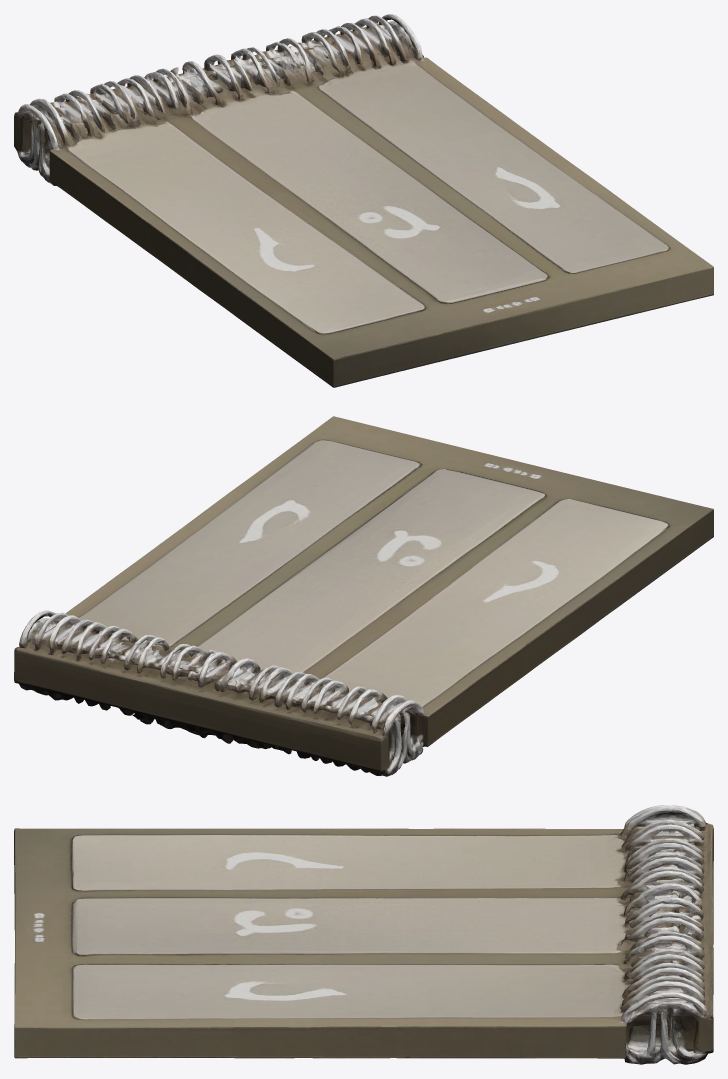
The model's file is 2f5ffee6-ea8f-4a1d-90d8-96e718927f5d.glb.
The picture shows the model from 3 angles, top to bottom: view 1: azimuth 30°, elevation 25°; view 2: azimuth 150°, elevation 25°; view 3: azimuth 270°, elevation 25°; orthographic projection. The views are drawn at different scales.
Parts seen in each view (by area): view 1: world; view 2: world; view 3: world.
Part boxes in pixels (<box>): world: <box>14,14,713,387</box>; world: <box>14,416,713,776</box>; world: <box>14,805,713,1064</box>.
Size of the model in its own units: 0.6737 by 0.1331 by 1.
1 material, 1 textured.
